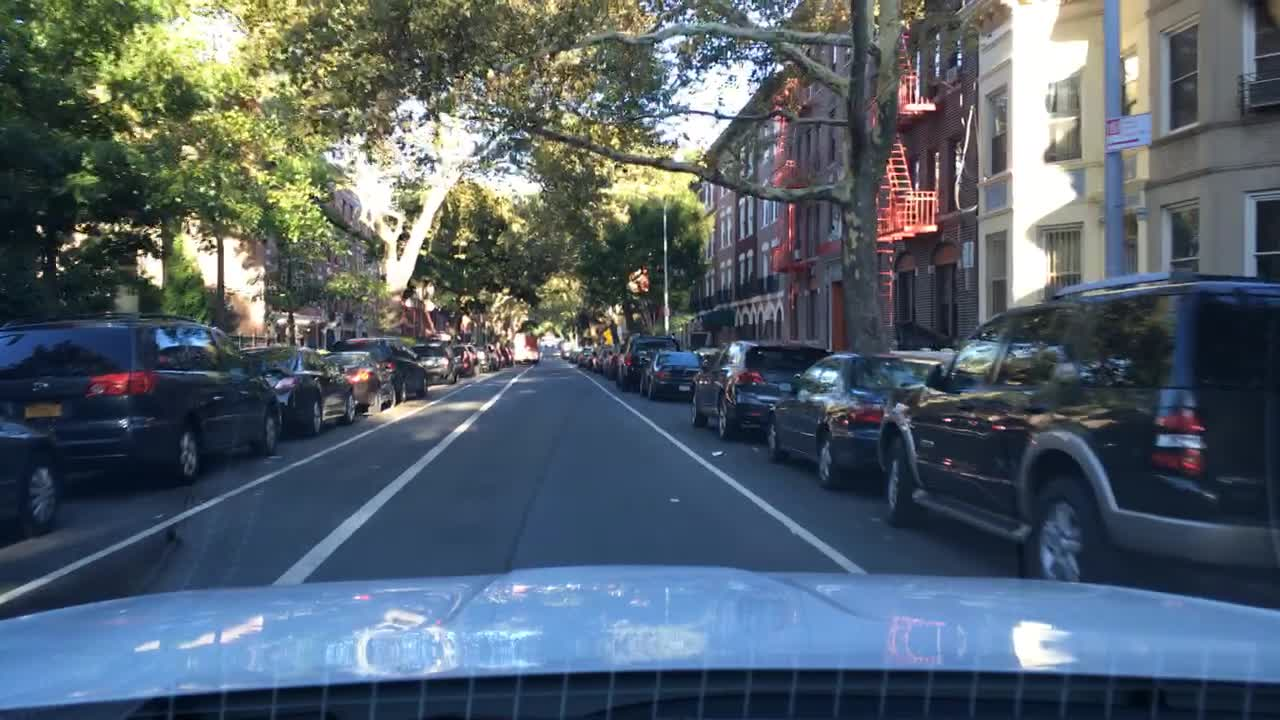car: (873, 266, 1278, 589), (0, 316, 285, 490), (761, 350, 947, 491), (689, 339, 833, 441), (239, 344, 357, 437), (0, 415, 64, 548), (332, 337, 430, 402), (316, 350, 396, 417), (616, 334, 680, 392), (637, 346, 704, 401), (409, 338, 462, 386), (512, 331, 542, 365), (449, 343, 476, 377), (585, 343, 610, 371), (609, 344, 628, 380), (469, 341, 490, 373), (481, 341, 503, 370), (595, 347, 613, 373), (575, 346, 595, 368), (601, 350, 618, 375), (558, 339, 571, 360), (568, 348, 581, 365)
person: (493, 335, 506, 370), (502, 335, 513, 368)
traffic sign: (1104, 114, 1153, 152)
